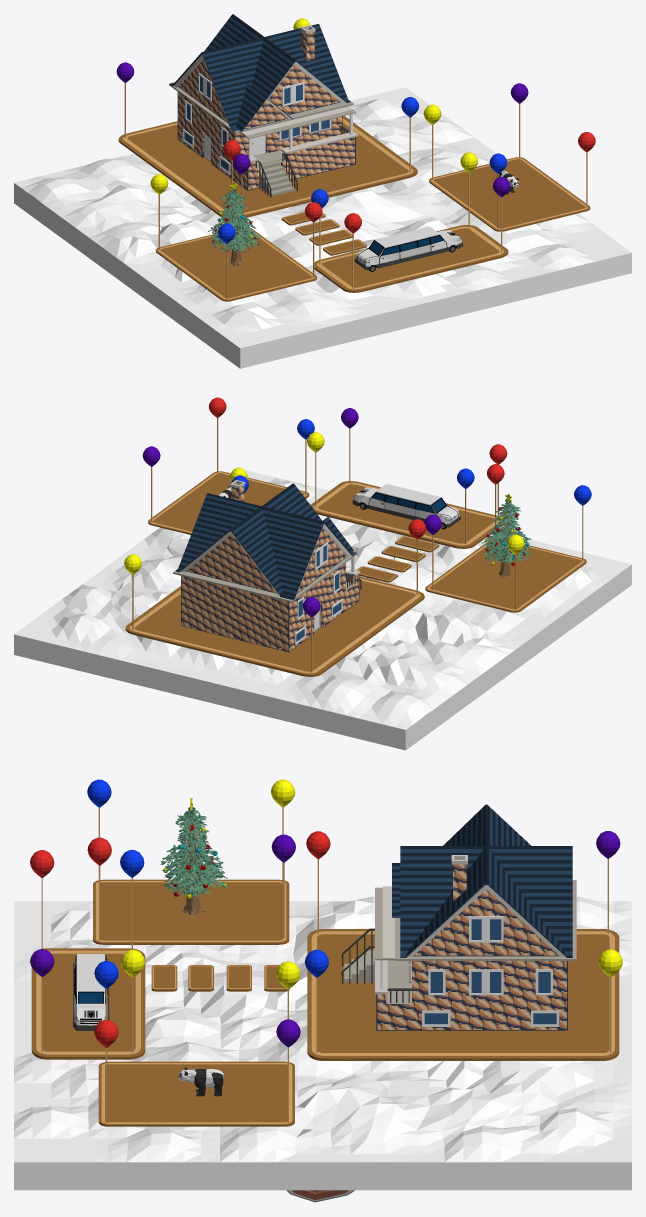
3 views of the same model, one above another, from view 1: azimuth 30°, elevation 25°; view 2: azimuth 150°, elevation 25°; view 3: azimuth 270°, elevation 25° (orthographic). The views are drawn at different scales.
Parts seen in each view (by area): view 1: Cube.013, Cube.430, VEHICLES_LIMOUSINE, OBJRANDOM_CHRISTMAS_TREE; view 2: Cube.013, Cube.430, VEHICLES_LIMOUSINE, OBJRANDOM_CHRISTMAS_TREE; view 3: Cube.013, Cube.430, OBJRANDOM_CHRISTMAS_TREE, VEHICLES_LIMOUSINE, ANIMAL_PANDA.
Part boxes in pixels (x1,y1,x2,y2): Cube.013: (14,18,631,368); Cube.430: (169,14,358,197); VEHICLES_LIMOUSINE: (354,226,463,271); OBJRANDOM_CHRISTMAS_TREE: (208,182,260,266); Cube.013: (14,397,631,750); Cube.430: (173,480,361,652); VEHICLES_LIMOUSINE: (352,484,461,529); OBJRANDOM_CHRISTMAS_TREE: (481,493,531,578); Cube.013: (14,779,631,1190); Cube.430: (341,804,576,1030); OBJRANDOM_CHRISTMAS_TREE: (160,797,227,916); VEHICLES_LIMOUSINE: (73,954,109,1030); ANIMAL_PANDA: (178,1067,223,1096).
Size of the model in its own units: 4000 by 2404 by 4000.
Materials: 39 (2 with a texture image).
